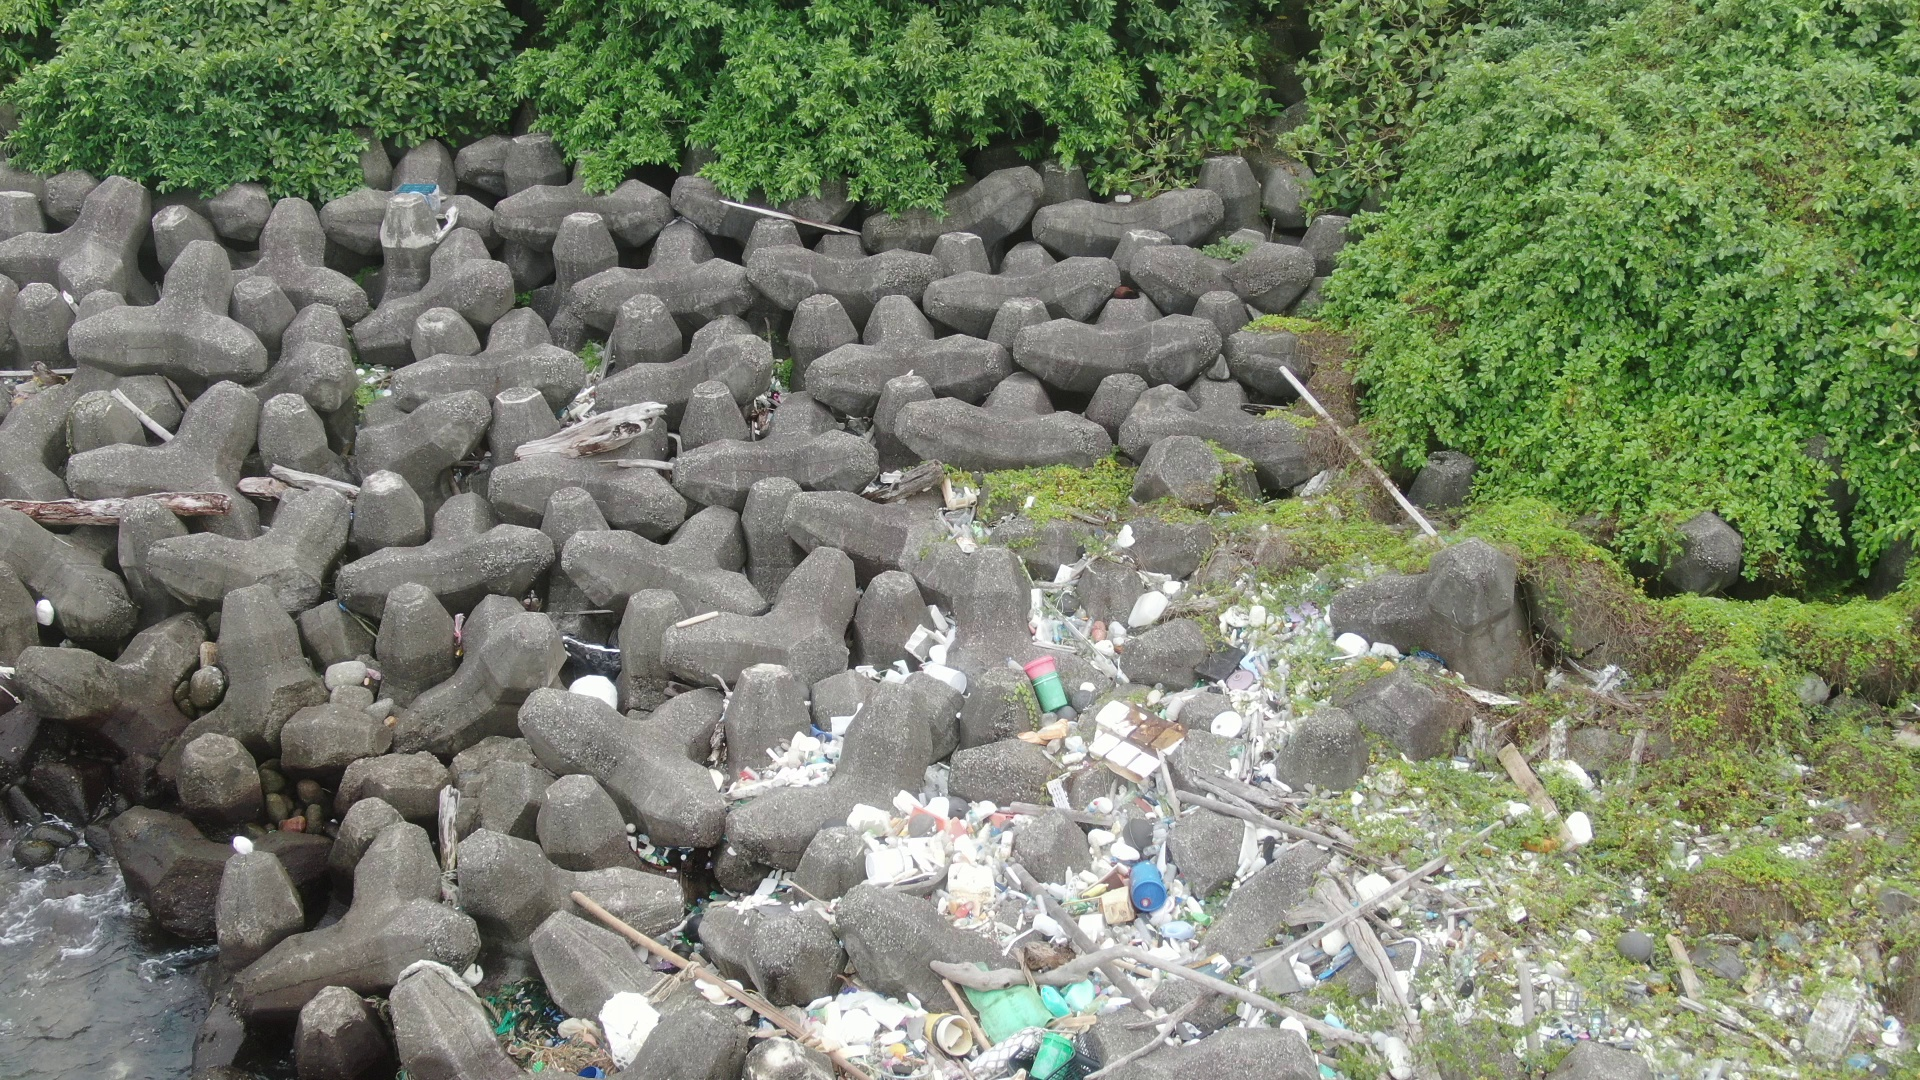garbage: (741, 588, 1414, 986), (696, 963, 1098, 1080), (1134, 982, 1516, 1076), (920, 477, 1182, 595), (462, 960, 670, 1080), (621, 811, 713, 881), (386, 174, 454, 218)
